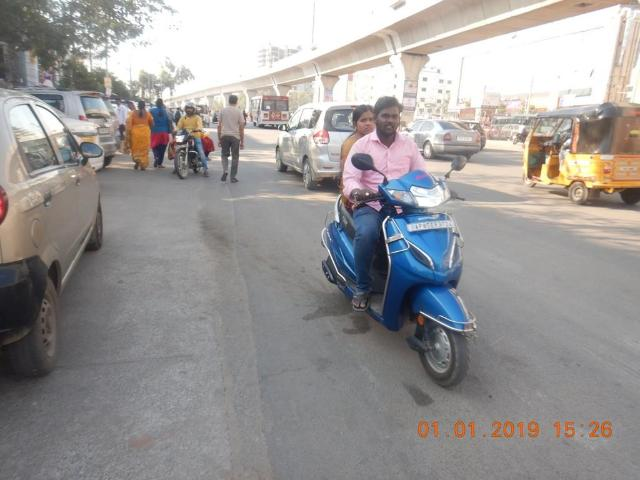helm: (185, 103, 197, 117)
motor: (319, 154, 482, 390), (169, 126, 211, 181)
non-helm: (375, 97, 404, 139), (353, 104, 378, 136)
